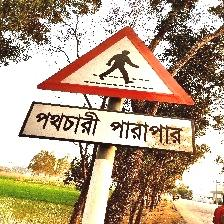Pedestrian-crossing: (23, 25, 197, 153)
